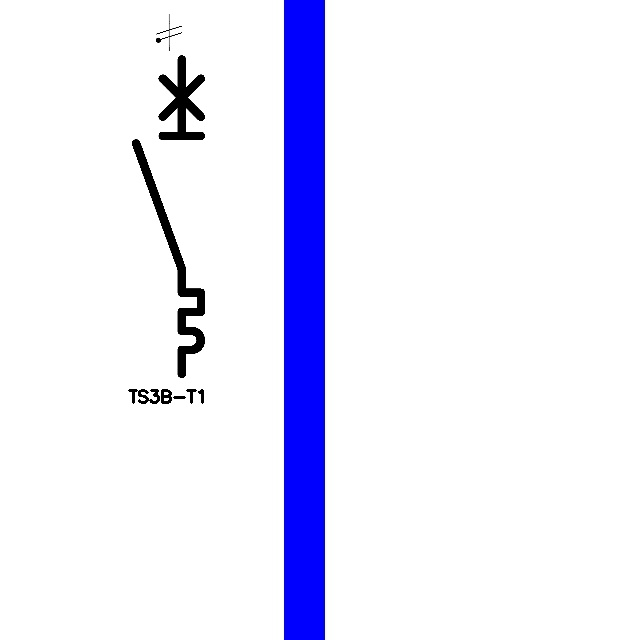interruptor_termomagnetico: (128, 51, 209, 382)
